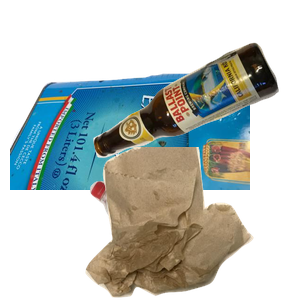glass: (91, 40, 300, 190)
metal: (10, 64, 250, 244)
plastic: (87, 178, 234, 300)
trash: (83, 147, 300, 300)
